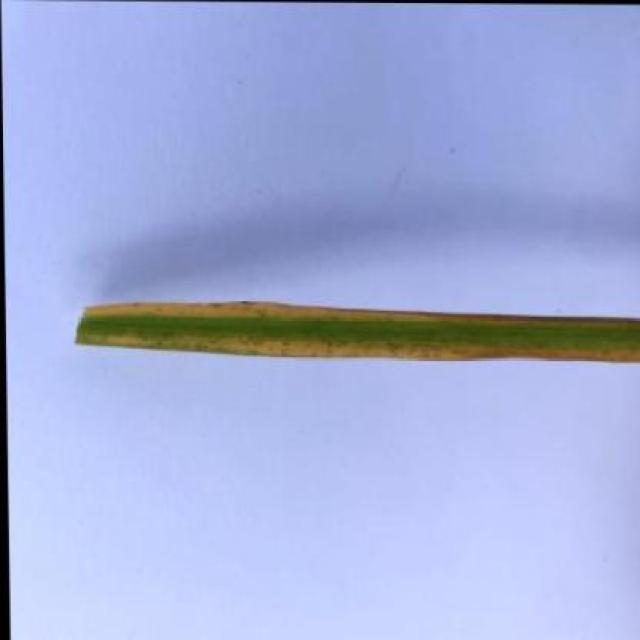Rice False Smut: (74, 302, 640, 362)
